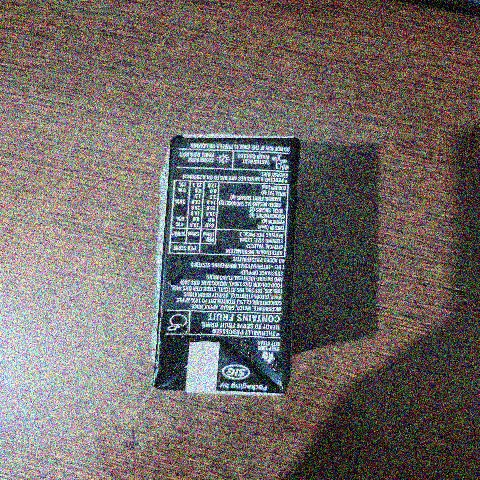appy: (143, 122, 304, 414)
